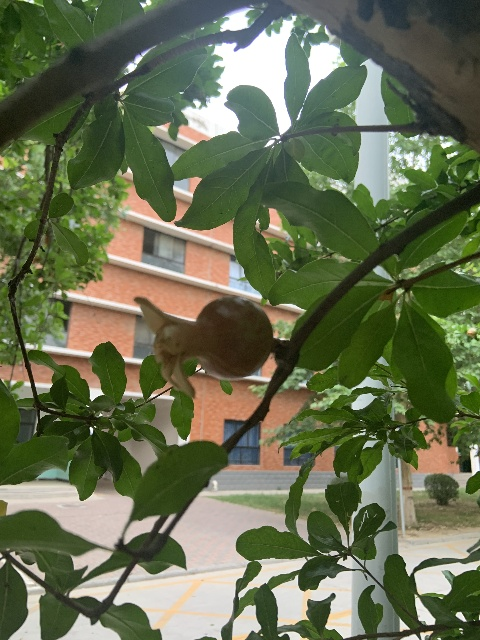early-fruit: (135, 296, 272, 399)
mid-growth: (466, 328, 476, 337)
